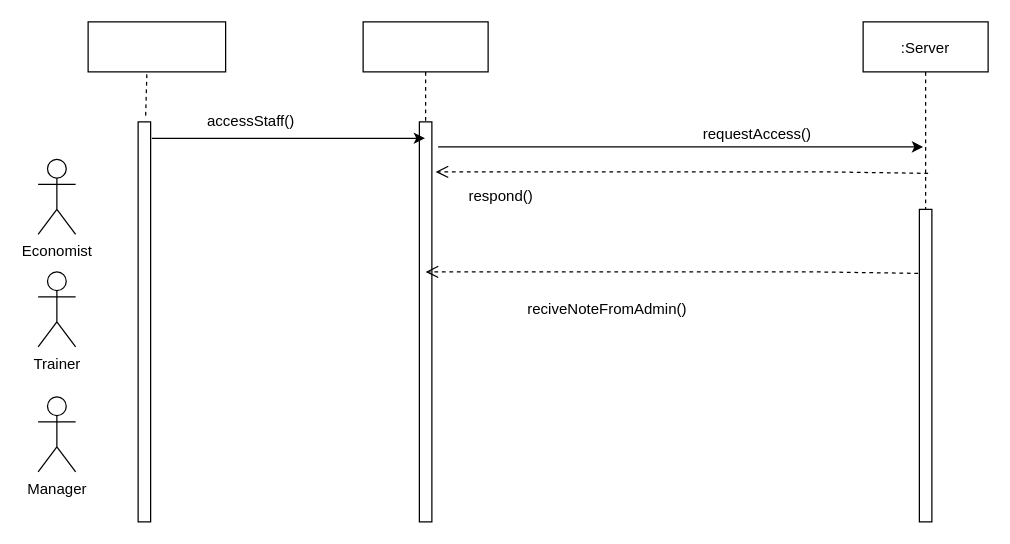
The diagram is 1010 pixels wide and 544 high, and some of its shapes have lost their labels. The box of each missing label's shape, as (x1, y1, x2, y2) in pixels:
:Staff: (362, 21, 488, 522)
User Page: (87, 21, 226, 72)
